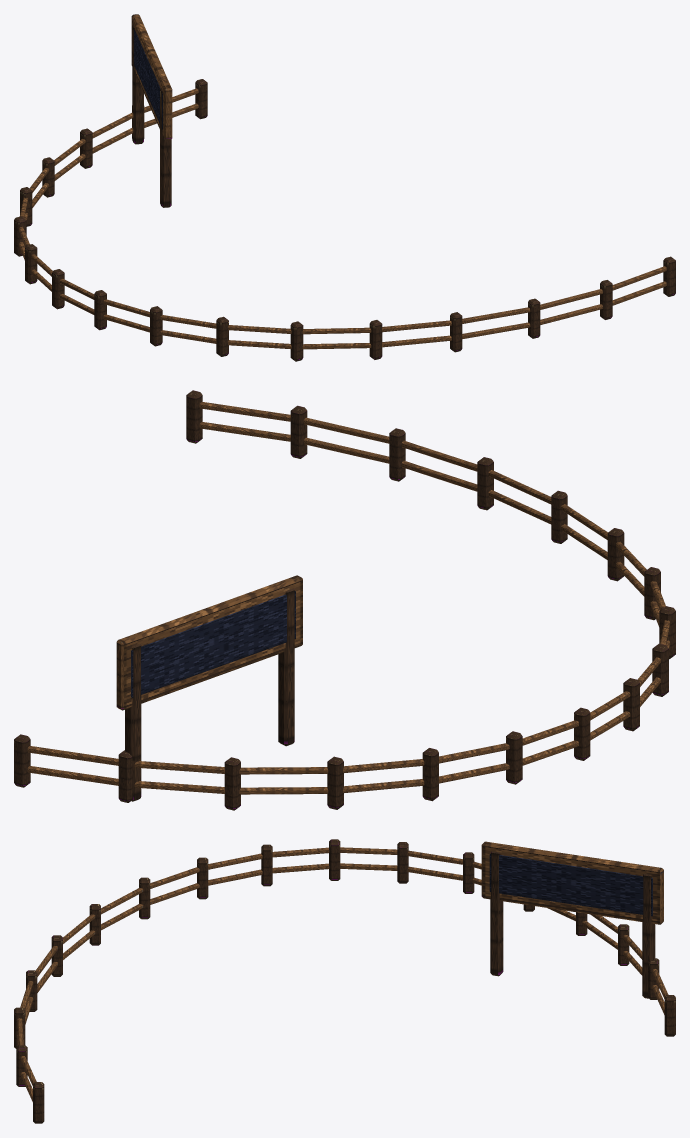
File: env_artifacts_hall.fbx
3 views of the same model, one above another, from view 1: azimuth 30°, elevation 25°; view 2: azimuth 150°, elevation 25°; view 3: azimuth 270°, elevation 25° (orthographic). The views are drawn at different scales.
Visible parts, largest first — view 1: env_artifacts_hall; view 2: env_artifacts_hall; view 3: env_artifacts_hall.
Boxes of the visible parts, x1=… form: env_artifacts_hall: x1=14, y1=14, x2=675, y2=361; env_artifacts_hall: x1=14, y1=390, x2=675, y2=810; env_artifacts_hall: x1=14, y1=839, x2=675, y2=1123.
Size of the model in its own units: 46.51 by 11.4 by 52.58.
1 material, 1 textured.
